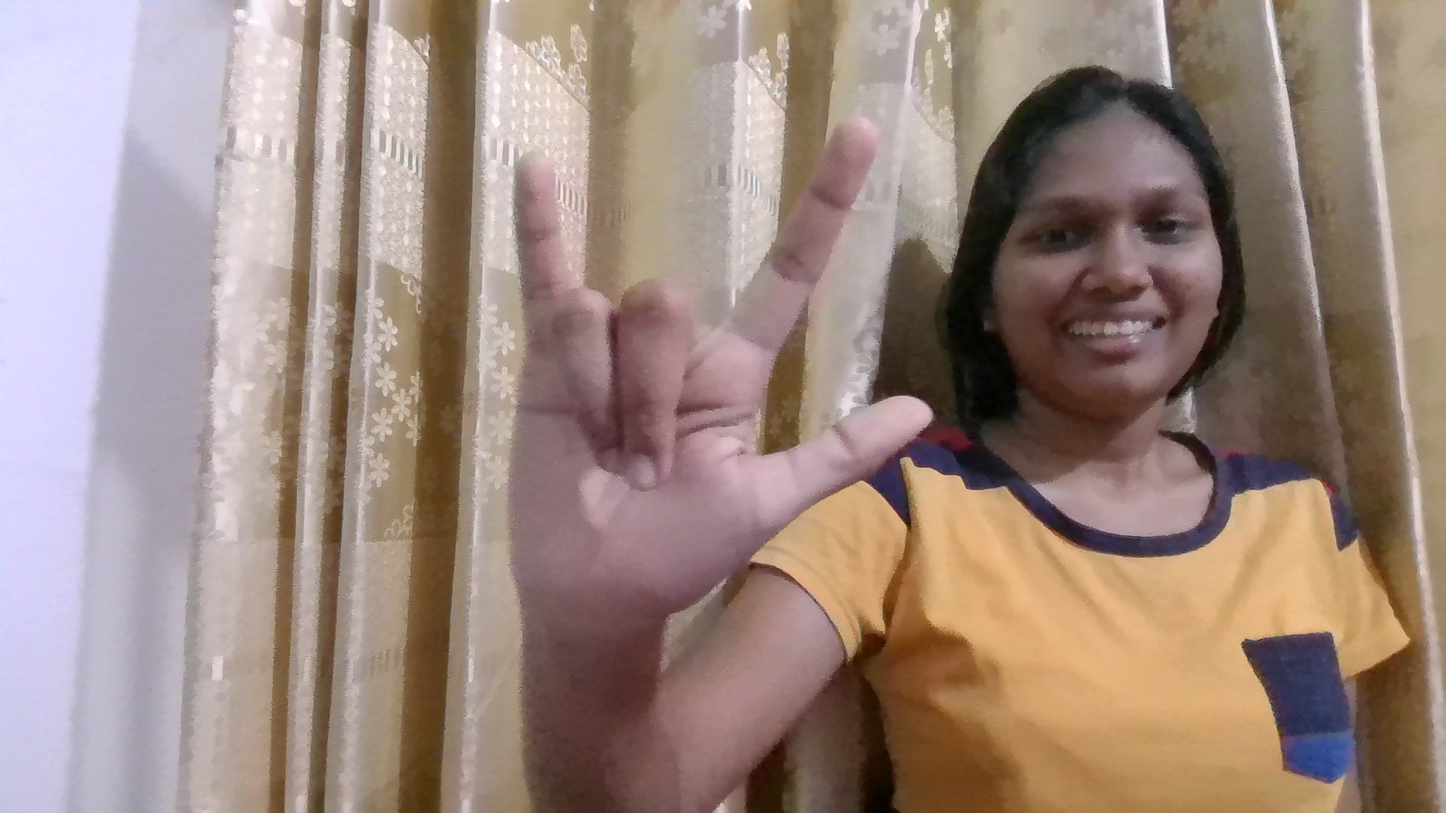I Love You: (499, 85, 922, 628)
